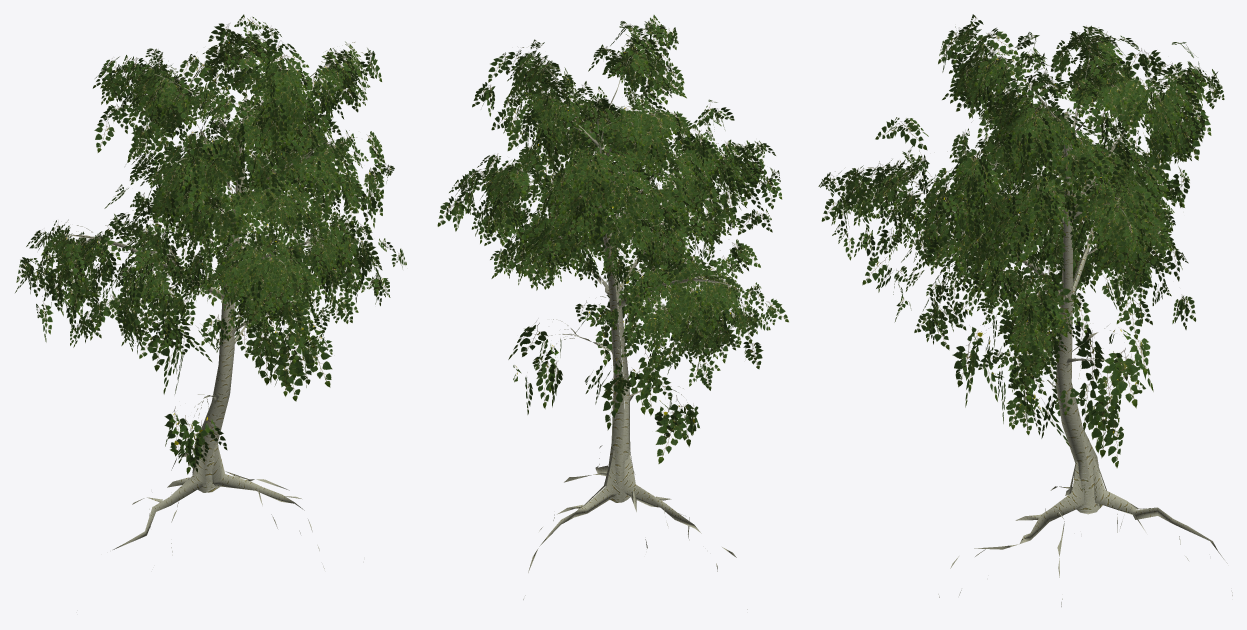
The model's file is birch_0.glb.
3 views of the same model, side by side, from view 1: azimuth 30°, elevation 25°; view 2: azimuth 150°, elevation 25°; view 3: azimuth 270°, elevation 25° (orthographic). The views are drawn at different scales.
Parts seen in each view (by area): view 1: Foliage, Bark; view 2: Foliage, Bark; view 3: Foliage, Bark.
Part boxes in pixels (left/top/right/bottom): Foliage: left=15, top=14, right=406, bottom=474; Bark: left=42, top=37, right=373, bottom=568; Foliage: left=437, top=15, right=788, bottom=463; Bark: left=459, top=44, right=765, bottom=609; Foliage: left=818, top=14, right=1224, bottom=467; Bark: left=835, top=37, right=1232, bottom=606.
Bounding box in the file's own units: 7.55 × 11.32 × 7.05.
Materials: 3 (3 with a texture image).
